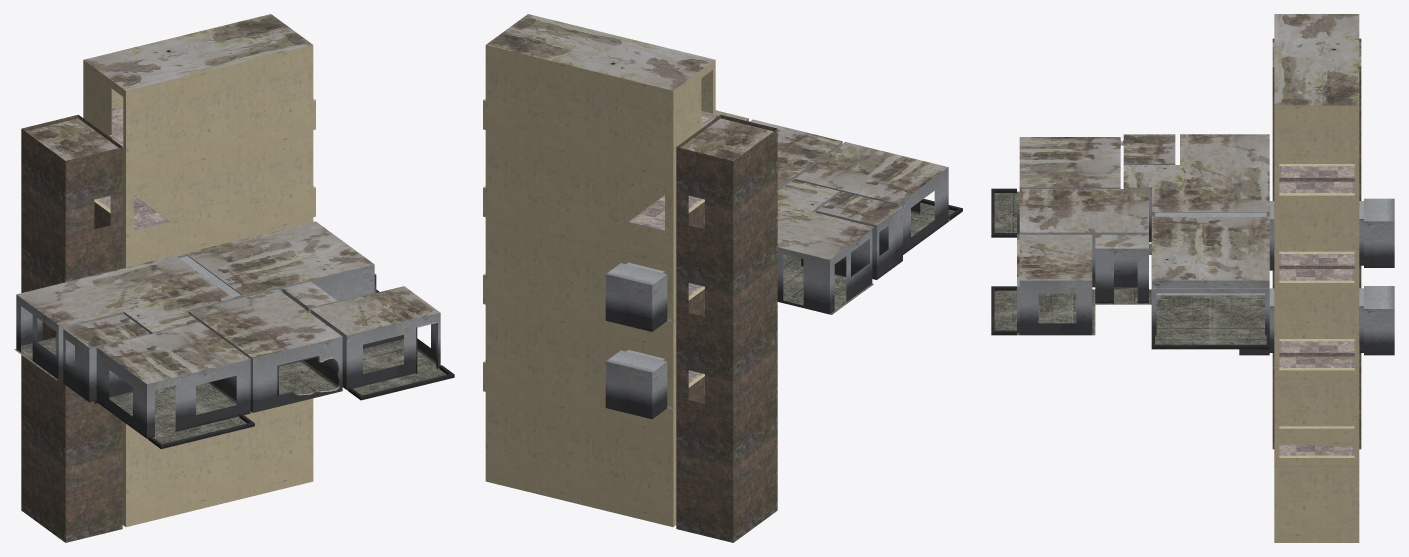
Rendered from H3_LobbyStructure.FBX.
3 views of the same model, side by side, from view 1: azimuth 30°, elevation 25°; view 2: azimuth 150°, elevation 25°; view 3: azimuth 270°, elevation 25° (orthographic).
Visible parts, largest first — view 1: H3_LobbyStructure; view 2: H3_LobbyStructure; view 3: H3_LobbyStructure.
Boxes of the visible parts, bbox=[...] form: H3_LobbyStructure: bbox=[14, 14, 454, 542]; H3_LobbyStructure: bbox=[483, 14, 962, 542]; H3_LobbyStructure: bbox=[991, 14, 1394, 542].
Size of the model in its own units: 2024 by 2558 by 2136.
Materials: 1 (1 with a texture image).
